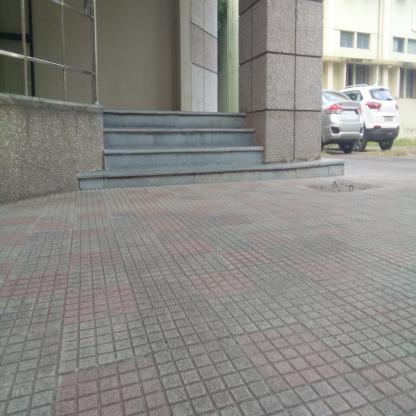stairs: (106, 108, 251, 192)
